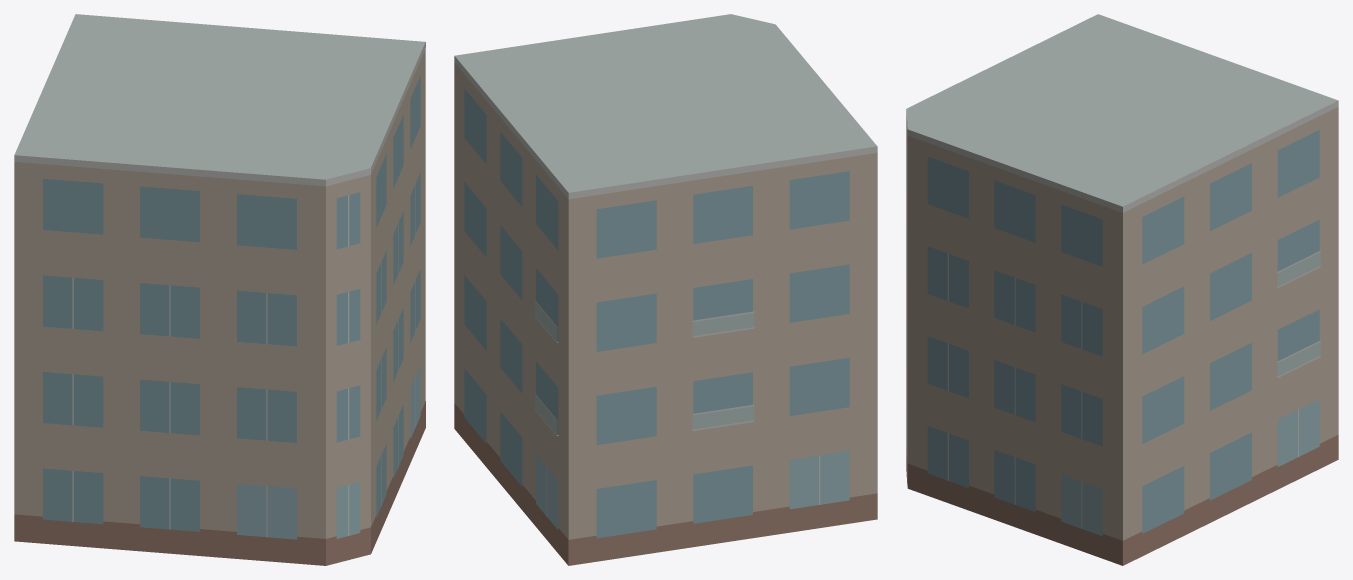
The model's file is survey-upis-33021031.glb.
3 views of the same model, side by side, from view 1: azimuth 30°, elevation 25°; view 2: azimuth 150°, elevation 25°; view 3: azimuth 270°, elevation 25° (orthographic). The views are drawn at different scales.
Visible parts, largest first — view 1: survey-upis-33021031.tmp; view 2: survey-upis-33021031.tmp; view 3: survey-upis-33021031.tmp.
Part boxes in pixels (<box>): survey-upis-33021031.tmp: <box>14,14,425,565</box>; survey-upis-33021031.tmp: <box>454,14,877,565</box>; survey-upis-33021031.tmp: <box>906,14,1338,565</box>.
Size of the model in its own units: 16.23 by 14.1 by 15.39.
